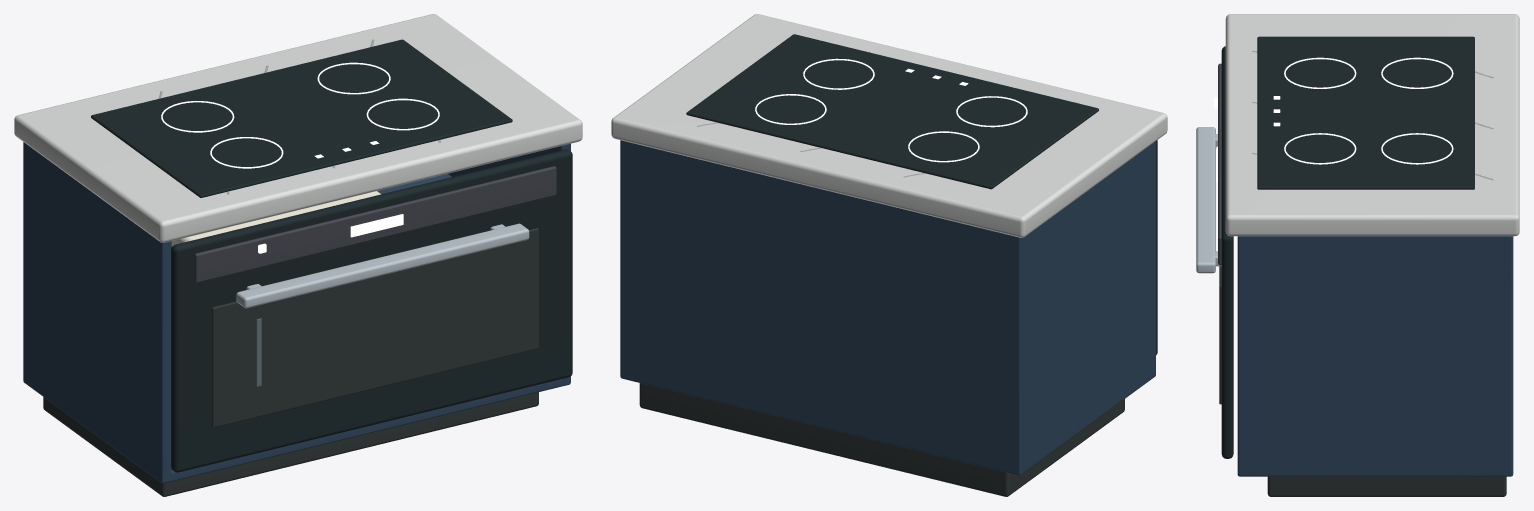
The model's file is kitchenModernInductionNavy.glb.
3 views of the same model, side by side, from view 1: azimuth 30°, elevation 25°; view 2: azimuth 150°, elevation 25°; view 3: azimuth 270°, elevation 25° (orthographic). The views are drawn at different scales.
Parts seen in each view (by area): view 1: Oven black glass face, Thick stone worktop, Oven window, Storage inner side, Induction glass plate, Oven control strip, Recessed kitchen plinth, Slim oven handle, Storage inner floor, Stored folded linen, Storage inner side.001, Oven clock display; view 2: Storage inner back, Thick stone worktop, Induction glass plate, Storage inner side, Recessed kitchen plinth, Storage inner floor; view 3: Storage inner side.001, Induction glass plate, Thick stone worktop, Recessed kitchen plinth, Oven black glass face, Slim oven handle, Storage inner back, Storage inner floor, Oven control strip, Oven window.
Part boxes in pixels (left/top/right/bottom): Oven black glass face: left=171, top=149, right=572, bottom=472; Thick stone worktop: left=14, top=14, right=582, bottom=242; Oven window: left=211, top=228, right=538, bottom=427; Storage inner side: left=23, top=142, right=171, bottom=483; Induction glass plate: left=91, top=39, right=512, bottom=197; Oven control strip: left=194, top=166, right=556, bottom=282; Recessed kitchen plinth: left=43, top=392, right=538, bottom=496; Slim oven handle: left=236, top=223, right=529, bottom=308; Storage inner floor: left=23, top=375, right=570, bottom=483; Stored folded linen: left=171, top=191, right=380, bottom=246; Storage inner side.001: left=448, top=143, right=570, bottom=385; Oven clock display: left=350, top=214, right=403, bottom=237; Storage inner back: left=620, top=140, right=1024, bottom=475; Thick stone worktop: left=611, top=14, right=1167, bottom=237; Induction glass plate: left=686, top=34, right=1098, bottom=189; Storage inner side: left=1012, top=141, right=1155, bottom=475; Recessed kitchen plinth: left=639, top=383, right=1124, bottom=496; Storage inner floor: left=883, top=369, right=1155, bottom=471; Storage inner side.001: left=1237, top=236, right=1513, bottom=476; Induction glass plate: left=1257, top=36, right=1474, bottom=189; Thick stone worktop: left=1225, top=14, right=1519, bottom=236; Recessed kitchen plinth: left=1267, top=476, right=1506, bottom=496; Oven black glass face: left=1221, top=46, right=1233, bottom=458; Slim oven handle: left=1196, top=127, right=1215, bottom=273; Storage inner back: left=1503, top=236, right=1513, bottom=475; Storage inner floor: left=1238, top=468, right=1511, bottom=475; Oven control strip: left=1218, top=63, right=1221, bottom=265; Oven window: left=1219, top=266, right=1221, bottom=404.
Bounding box in the file's own units: 1.84 × 1.25 × 1.23.
